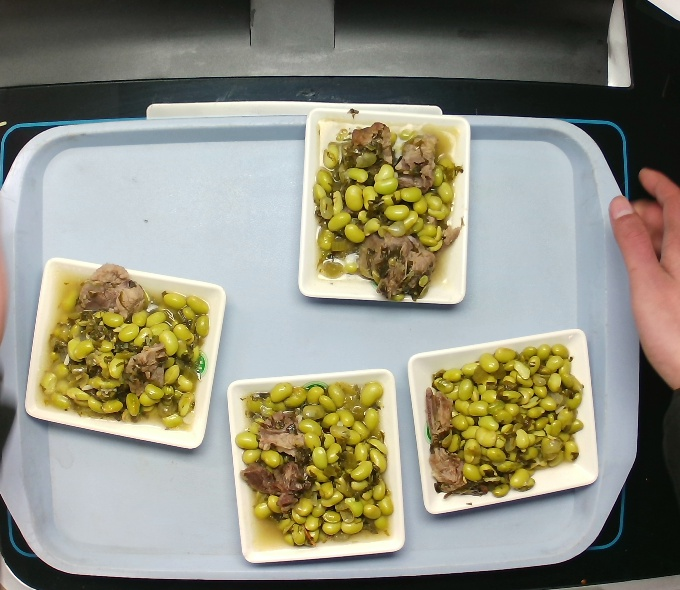wcq-ZhuRouDunDou: (45, 260, 211, 432), (420, 332, 586, 504), (228, 378, 394, 550), (309, 122, 464, 305)
